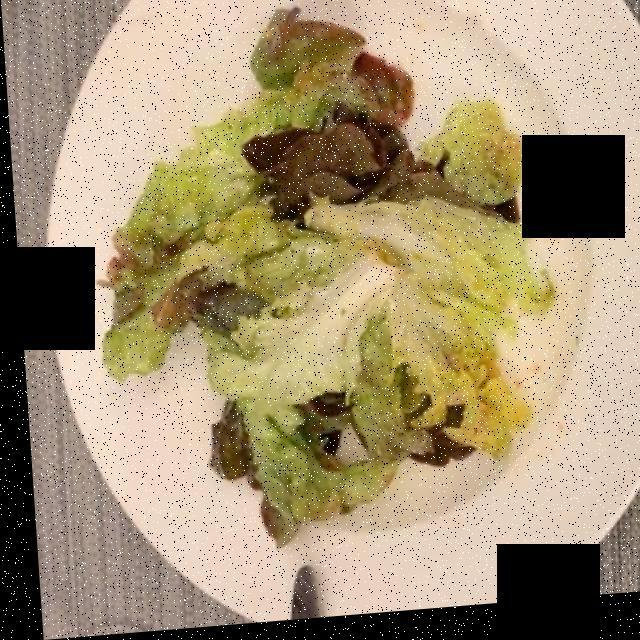salad: (99, 16, 539, 526)
